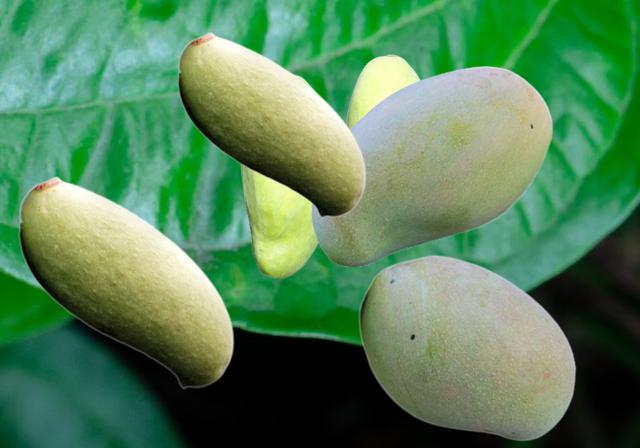green_mango: (311, 66, 552, 265), (18, 175, 233, 388), (358, 254, 575, 440), (177, 31, 365, 217), (240, 74, 317, 277), (346, 54, 420, 127)
